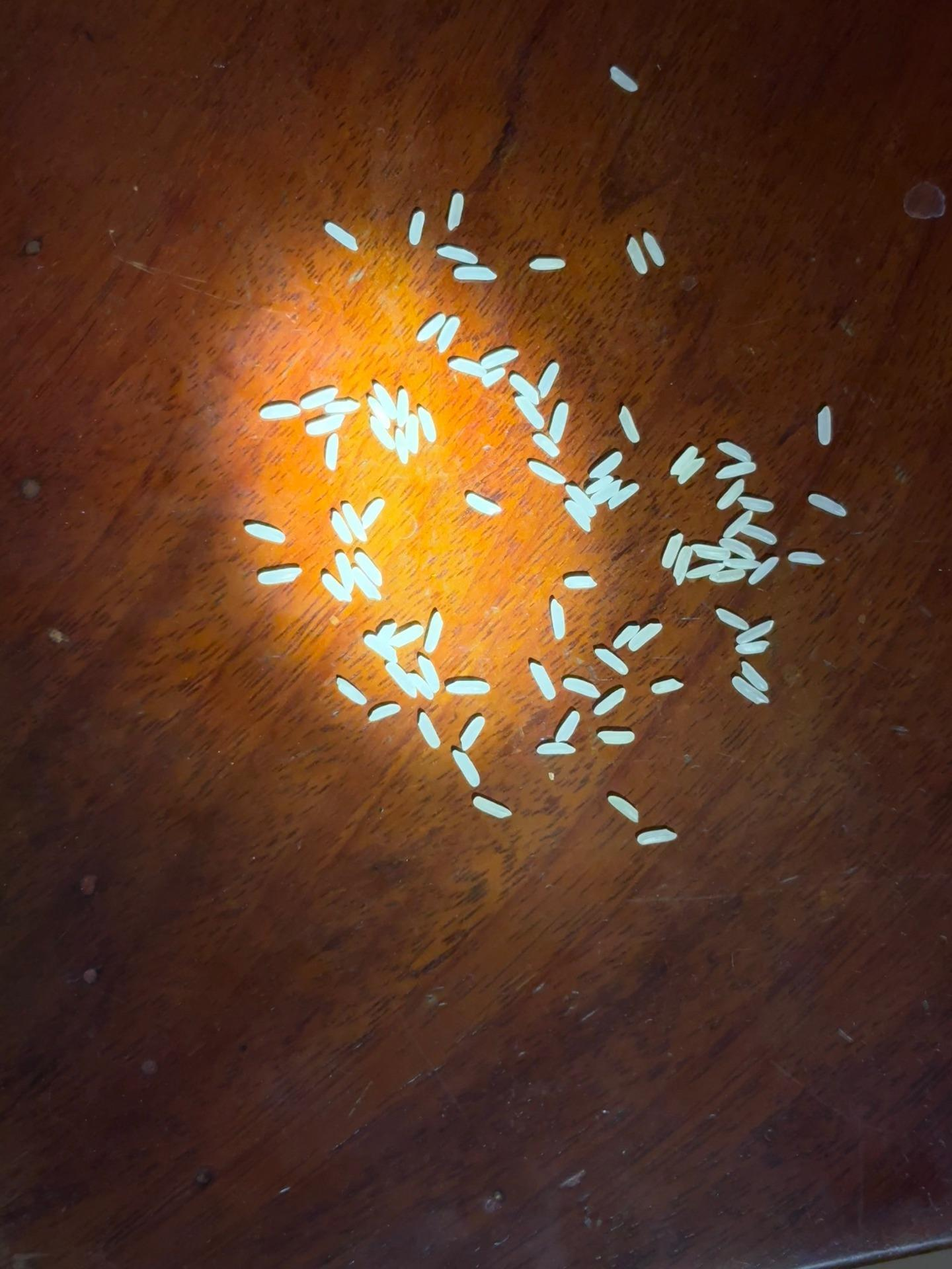Rice-th-y-nh: (386, 662, 417, 698), (452, 750, 480, 787), (732, 677, 769, 704), (530, 663, 556, 700), (566, 485, 596, 517), (515, 396, 544, 429), (352, 568, 381, 601), (628, 623, 662, 651), (355, 552, 383, 586), (342, 504, 367, 541), (671, 546, 694, 585), (325, 223, 358, 250), (373, 383, 397, 420), (460, 716, 485, 751), (510, 375, 539, 405), (749, 557, 780, 585), (717, 479, 745, 510), (608, 795, 639, 823), (364, 634, 396, 661), (595, 648, 628, 674), (737, 621, 774, 644), (322, 574, 351, 603), (670, 446, 698, 476), (809, 494, 847, 516), (473, 797, 511, 819), (418, 656, 440, 694), (590, 452, 622, 478), (594, 689, 626, 715), (565, 500, 591, 532), (370, 416, 394, 450), (307, 414, 344, 436), (417, 314, 446, 342), (741, 662, 769, 691), (337, 678, 367, 705), (555, 711, 580, 743), (245, 523, 285, 543), (418, 713, 440, 749), (618, 406, 640, 442), (301, 388, 337, 410), (724, 511, 753, 538), (437, 245, 478, 264), (425, 612, 444, 653), (529, 462, 566, 483), (438, 317, 460, 352), (678, 458, 706, 485), (720, 538, 756, 559), (609, 484, 639, 509), (591, 481, 621, 506), (643, 232, 665, 266), (662, 534, 684, 568), (550, 403, 569, 442), (563, 678, 600, 698), (466, 494, 501, 515), (258, 568, 301, 585), (610, 66, 638, 92), (390, 625, 423, 647), (627, 238, 647, 274), (538, 363, 559, 397), (716, 608, 748, 630), (449, 358, 486, 377), (481, 349, 518, 368), (742, 525, 777, 545), (368, 397, 390, 428), (718, 442, 752, 462), (408, 673, 433, 700), (331, 512, 352, 544), (361, 499, 384, 528), (417, 407, 436, 441), (717, 462, 755, 479), (693, 544, 731, 561), (446, 680, 489, 695), (260, 404, 300, 420), (455, 266, 497, 281), (687, 562, 724, 579), (613, 625, 639, 649), (738, 496, 774, 513), (533, 434, 559, 457), (336, 553, 353, 588), (447, 193, 463, 230), (638, 829, 676, 844), (404, 415, 419, 453), (551, 599, 565, 639), (395, 389, 410, 426), (817, 407, 832, 444), (709, 568, 746, 583), (409, 211, 425, 245), (537, 741, 575, 755), (369, 704, 400, 721), (394, 430, 409, 463), (585, 477, 614, 494), (325, 400, 360, 414), (725, 557, 759, 571), (325, 434, 338, 470), (788, 551, 824, 564), (598, 731, 634, 744), (736, 641, 770, 654), (652, 679, 683, 693), (530, 258, 565, 270), (483, 368, 505, 386), (377, 623, 396, 643), (565, 576, 596, 588)
